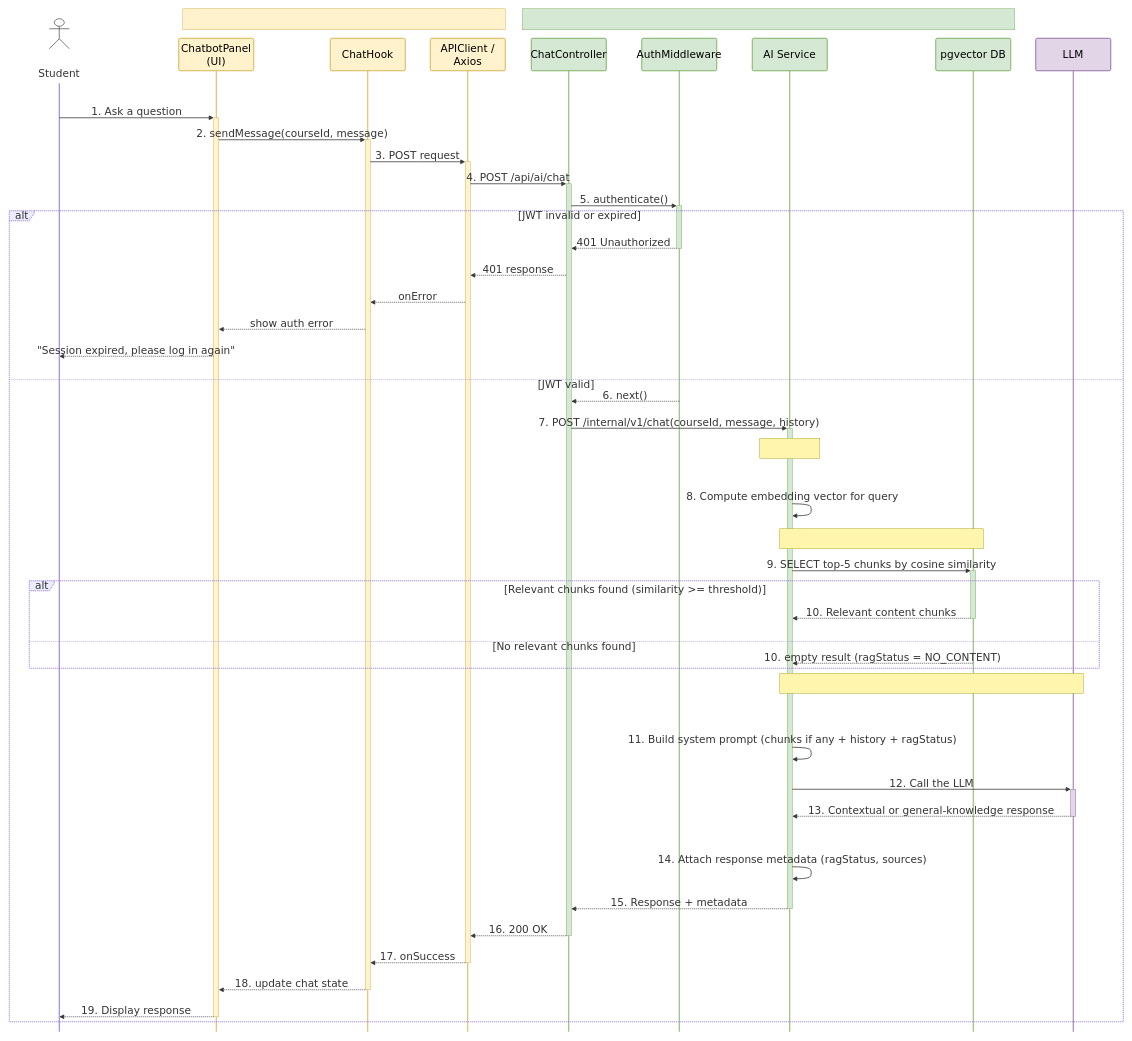
Image size: 1132x1041. Some labels were removed from this diagram. The shapes that lost their labels are listed below. From the top down, each one's centre as x and y in pixels, then its label:
At [343,19]: "Frontend".
At [768,19]: "Backend".
At [789,448]: "Embedding".
At [881,538]: "RAG Search".
At [931,683]: "Response Generation".
